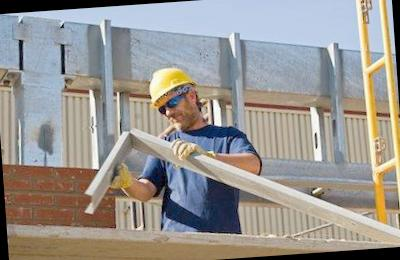helmet: (144, 63, 200, 107)
no_vest: (144, 126, 246, 233)
person: (138, 57, 244, 244)
